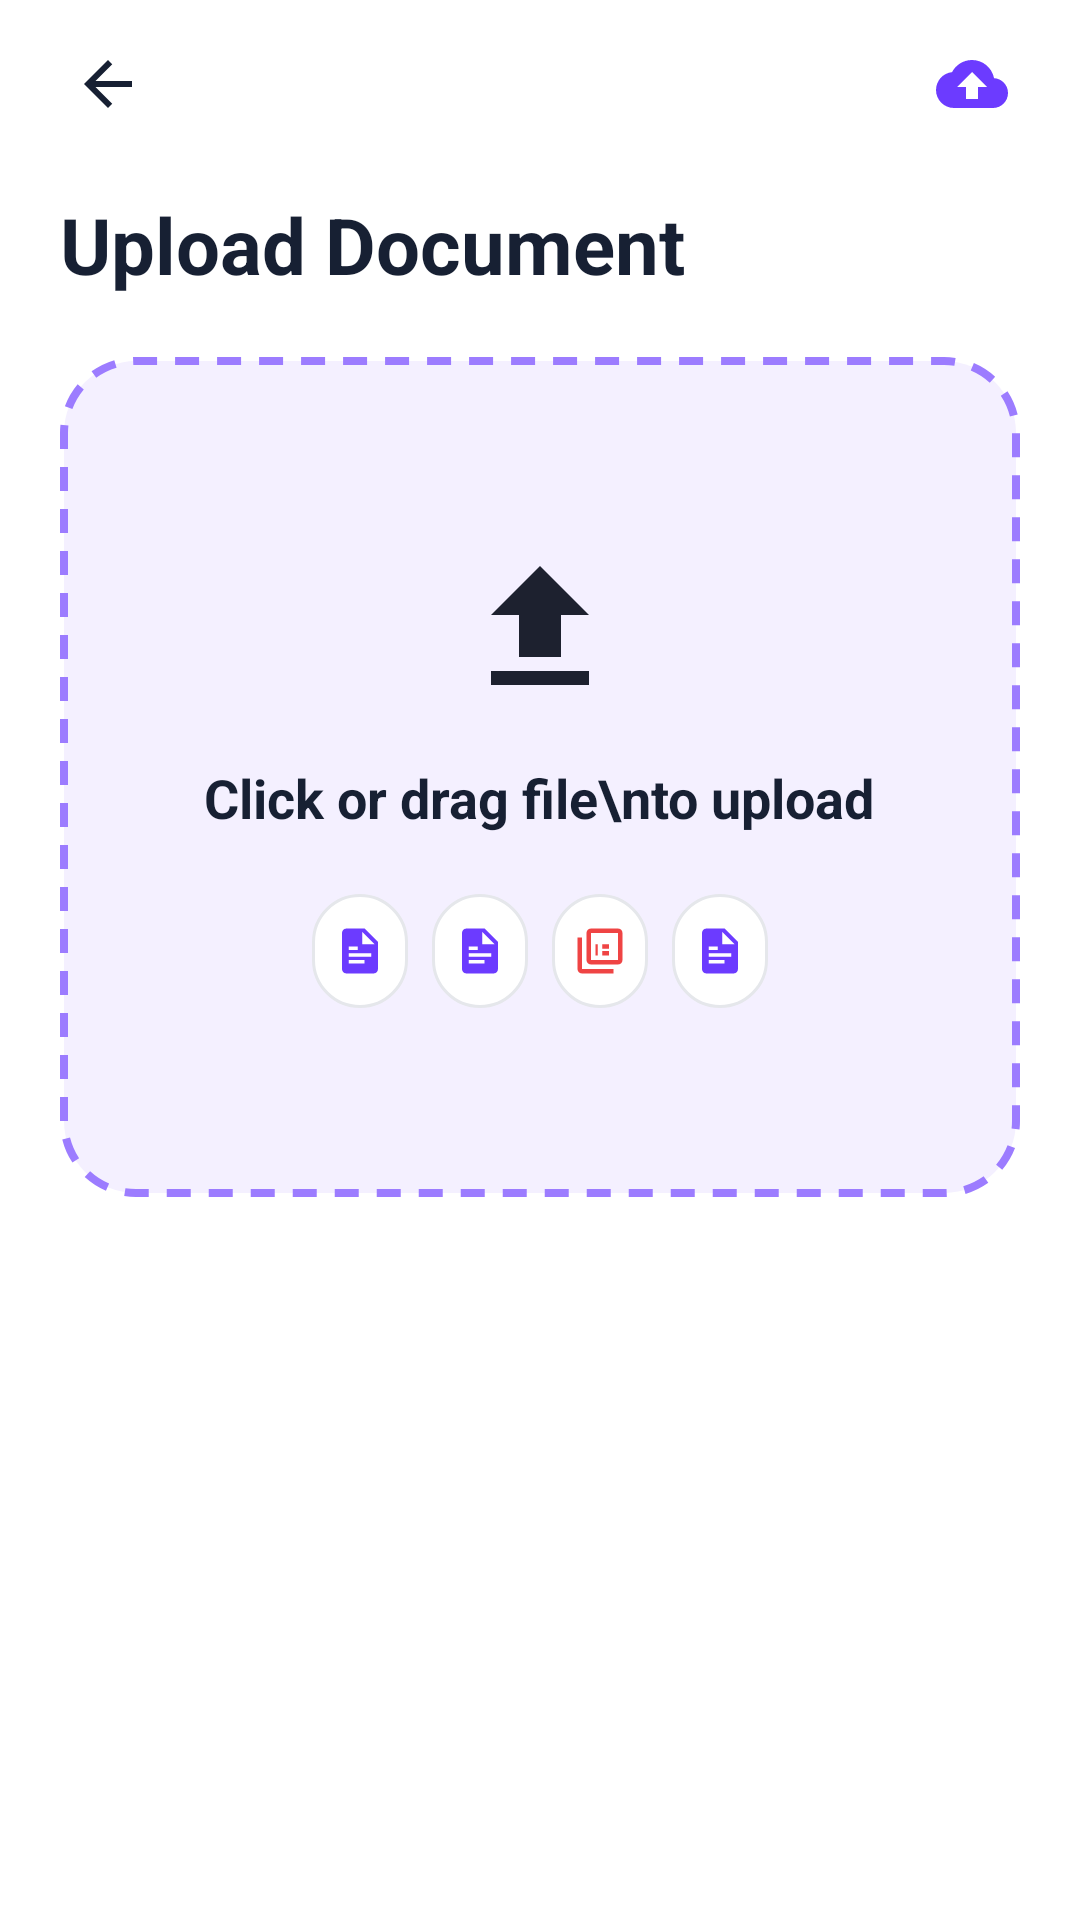

Named icons in this screenshot (1080px x 1920px) and their bounding boxes, (x1, y1, x2, y2):
Back: (84, 60, 132, 108)
Upload: (936, 60, 1008, 108)
Upload Arrow: (491, 566, 589, 685)
